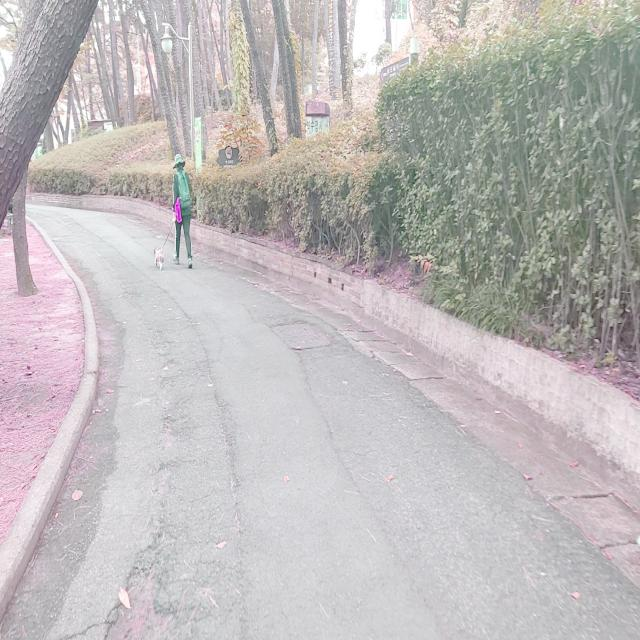Leashed_Dog: (154, 214, 192, 270)
